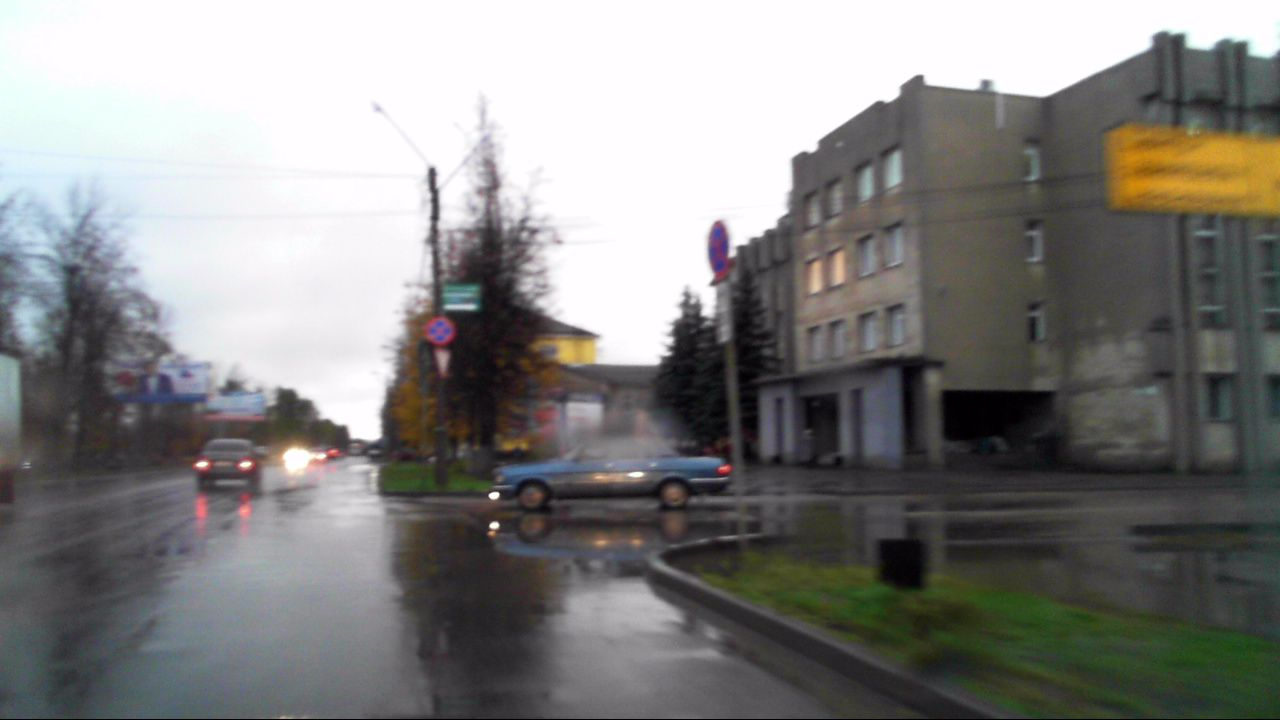No Parking: (709, 220, 728, 275)
